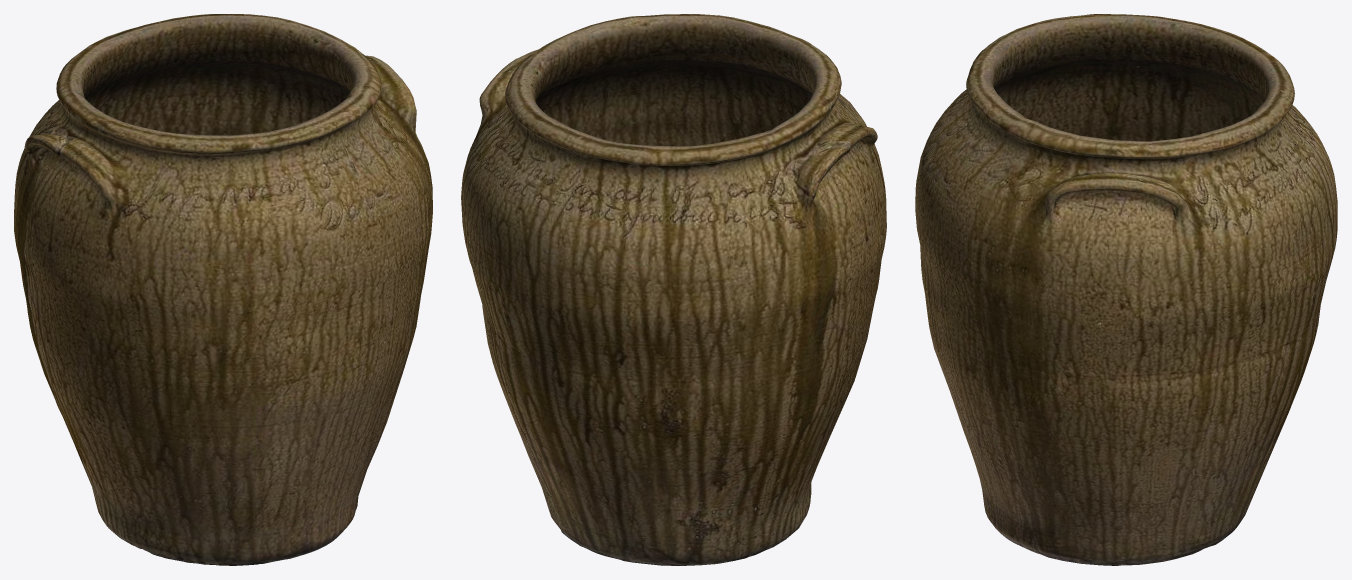
The model's file is jar.glb.
3 renders of one model, left to right at view 1: azimuth 30°, elevation 25°; view 2: azimuth 150°, elevation 25°; view 3: azimuth 270°, elevation 25°, orthographic.
Visible parts, largest first — view 1: Node; view 2: Node; view 3: Node.
Part boxes in pixels (x1,y1,x2,y2): Node: [14, 14, 432, 565]; Node: [461, 14, 886, 565]; Node: [915, 14, 1337, 565].
Size of the model in its own units: 0.4605 by 0.525 by 0.459.
Materials: 1 (1 with a texture image).
